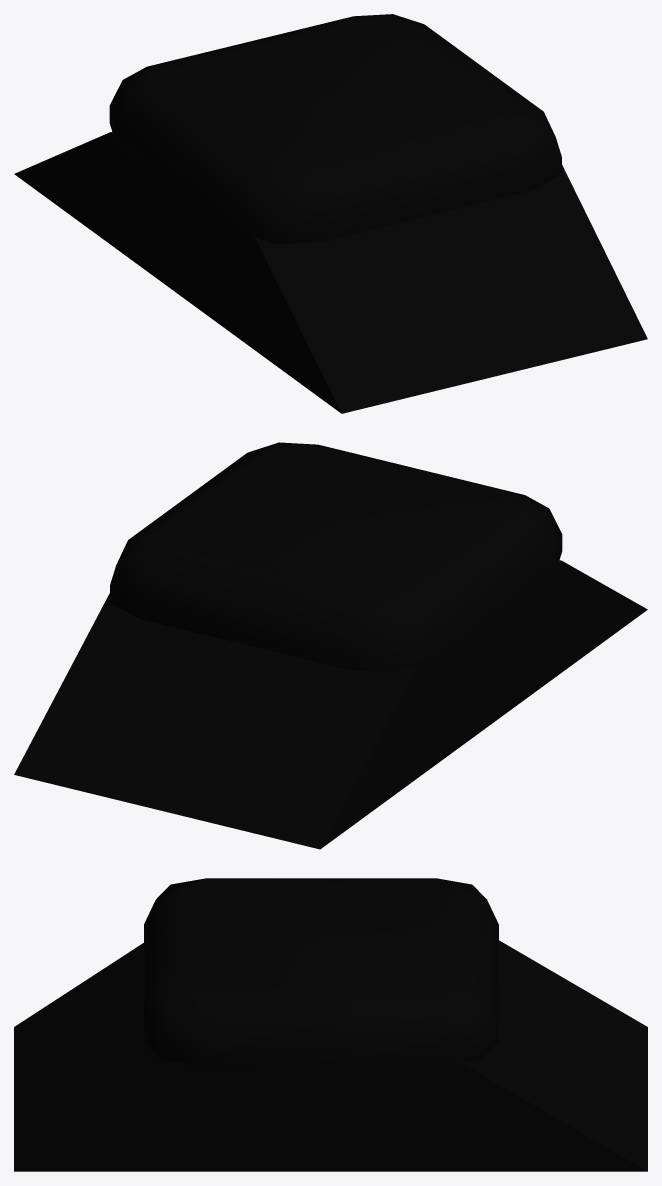
File: Platform_4.fbx
The picture shows the model from 3 angles, top to bottom: view 1: azimuth 30°, elevation 25°; view 2: azimuth 150°, elevation 25°; view 3: azimuth 270°, elevation 25°; orthographic projection. The views are drawn at different scales.
Visible parts, largest first — view 1: Platform_4; view 2: Platform_4; view 3: Platform_4.
Boxes of the visible parts, left/top/right/bottom form: Platform_4: left=14, top=14, right=647, bottom=413; Platform_4: left=14, top=442, right=647, bottom=849; Platform_4: left=14, top=878, right=647, bottom=1171.
Size of the model in its own units: 665 by 334 by 1187.
